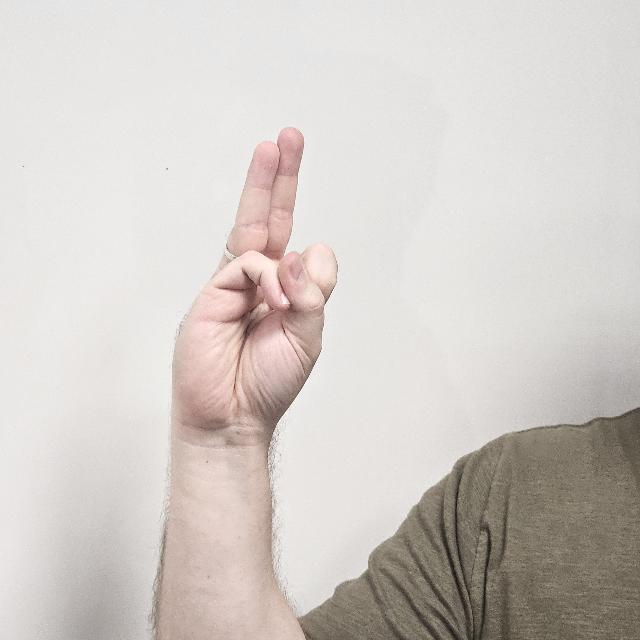R: (174, 127, 336, 460)
